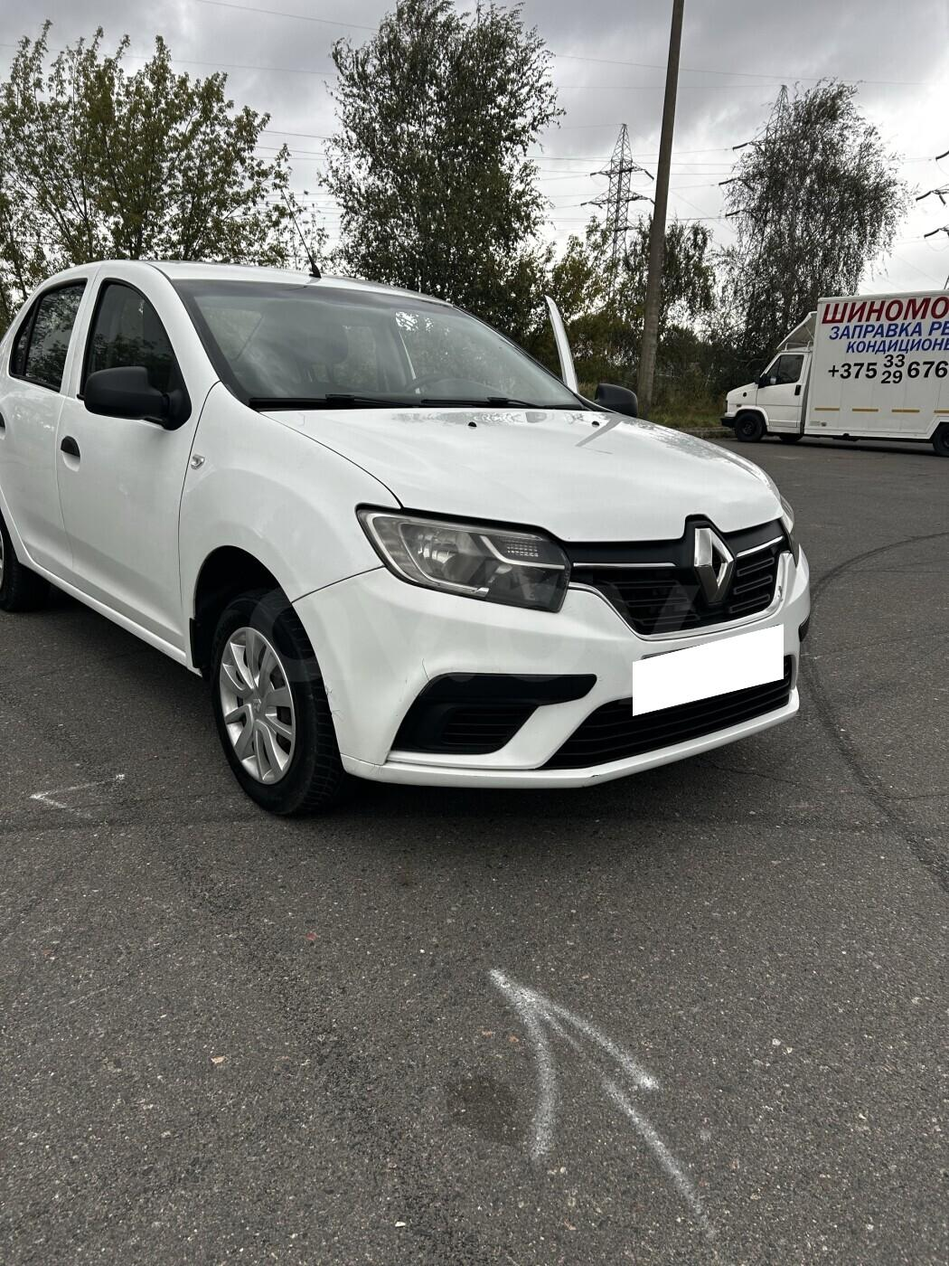Logan_2018: (0, 251, 830, 832)
